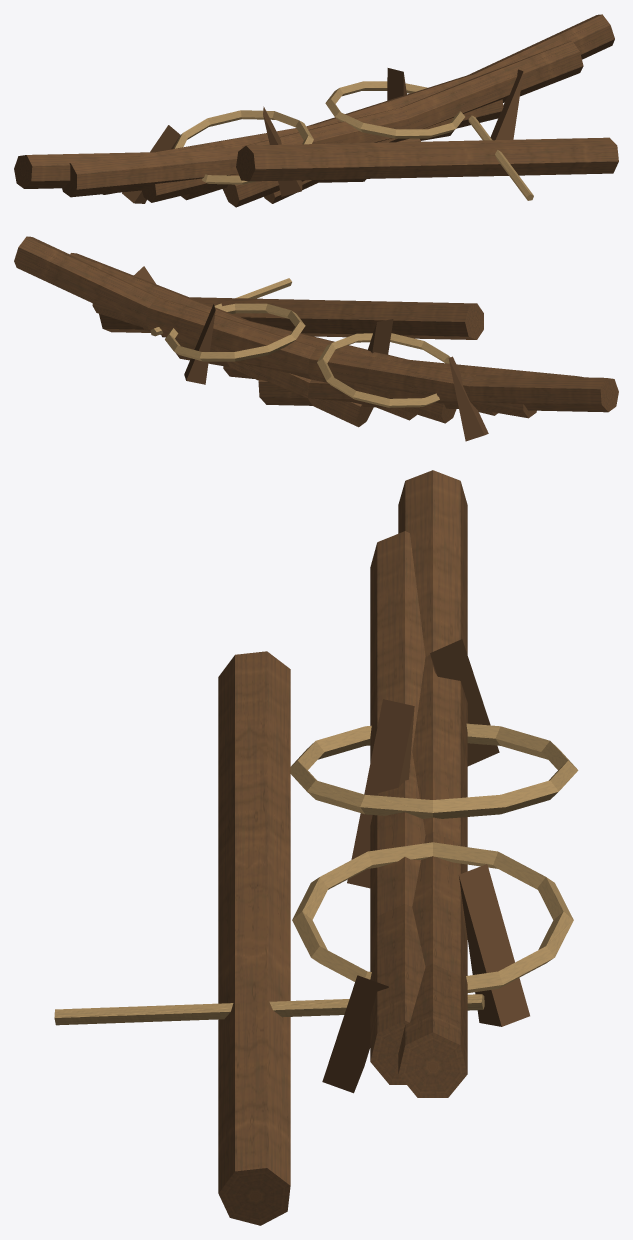
The model's file is en-019_signal_hill_dressing_set__logs.obj.
The picture shows the model from 3 angles, top to bottom: view 1: azimuth 30°, elevation 25°; view 2: azimuth 150°, elevation 25°; view 3: azimuth 270°, elevation 25°; orthographic projection. The views are drawn at different scales.
Parts seen in each view (by area): view 1: en-019_signal_hill_dressing_set__logs; view 2: en-019_signal_hill_dressing_set__logs; view 3: en-019_signal_hill_dressing_set__logs.
Boxes of the visible parts, x1,y1,x2,y2 form: en-019_signal_hill_dressing_set__logs: [14, 14, 618, 207]; en-019_signal_hill_dressing_set__logs: [14, 236, 618, 441]; en-019_signal_hill_dressing_set__logs: [54, 470, 578, 1225].
Size of the model in its own units: 1.46 by 0.276 by 0.5616.
2 materials, 2 textured.
